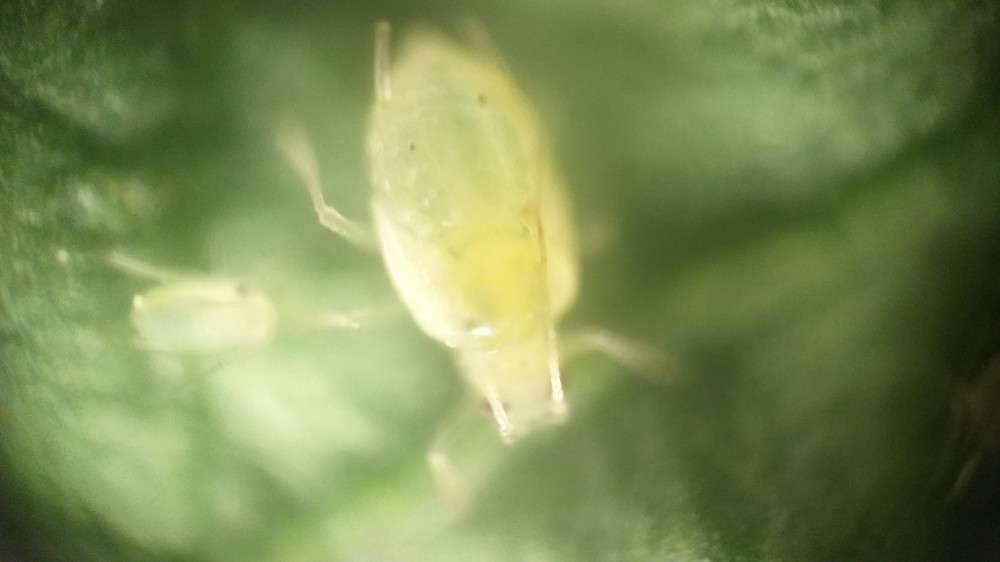Pulgon: (289, 19, 711, 509)
